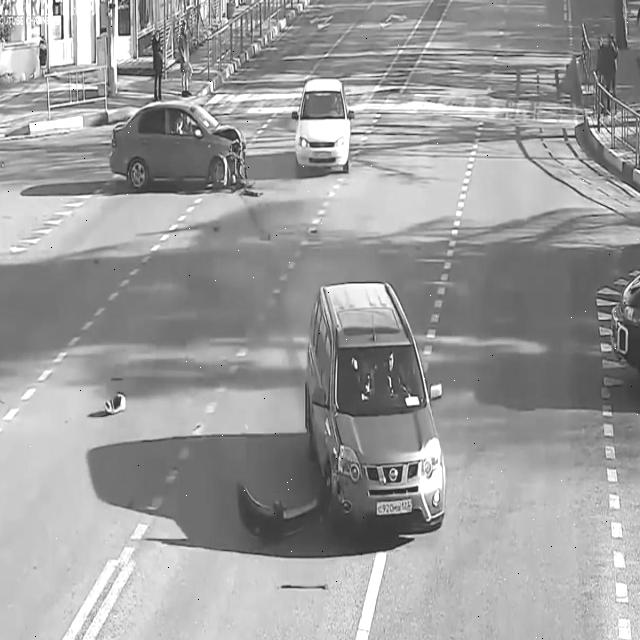accident: (224, 266, 462, 605), (99, 87, 270, 207)
